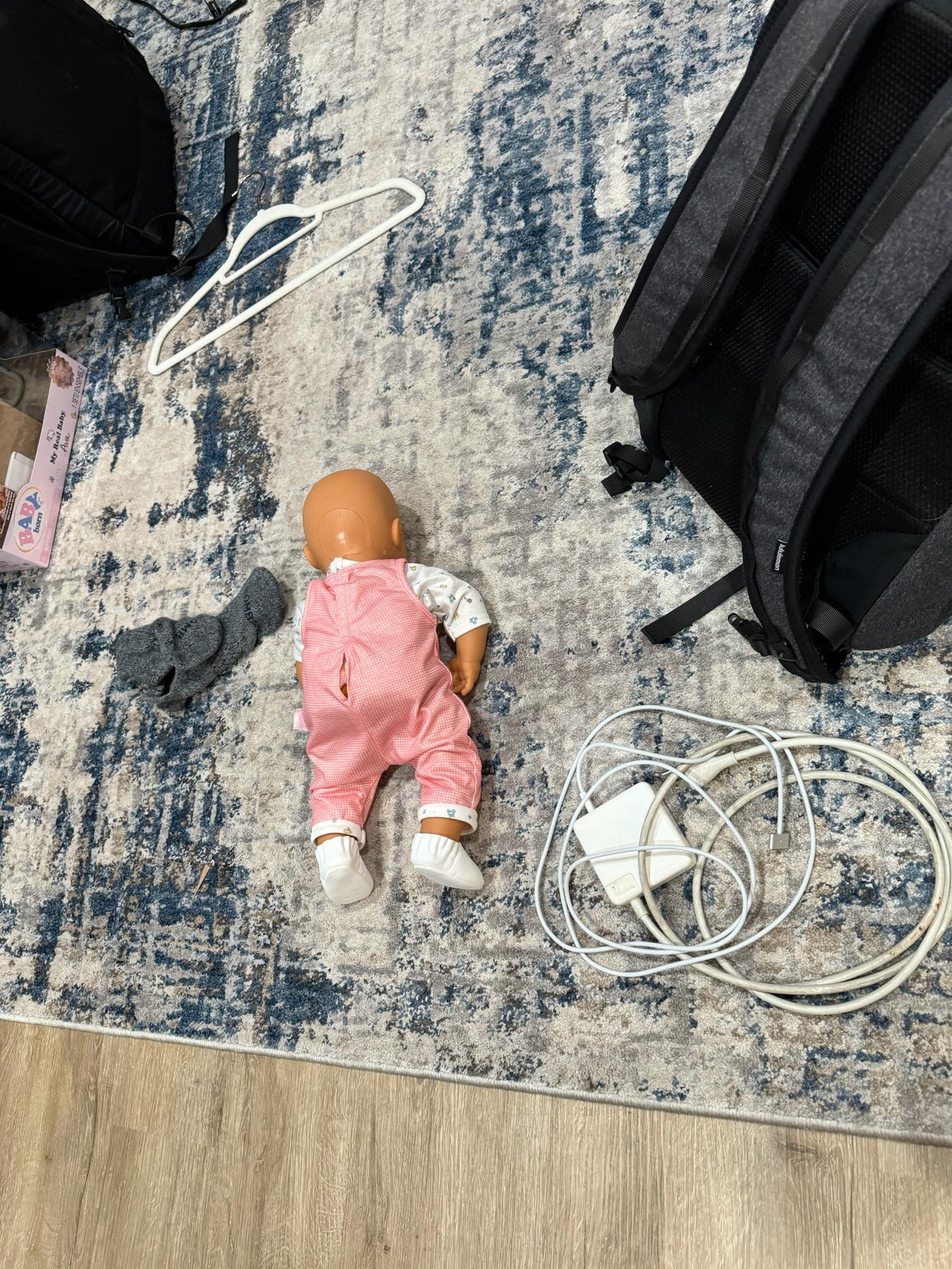baby: (285, 459, 504, 915)
